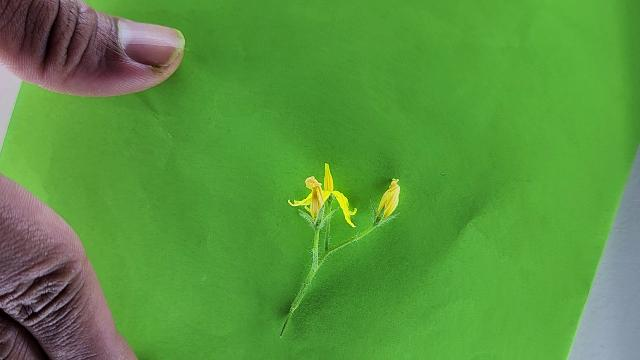Anthesis: (287, 162, 358, 229), (374, 177, 402, 224)
